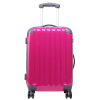luggage: (19, 0, 81, 100)
